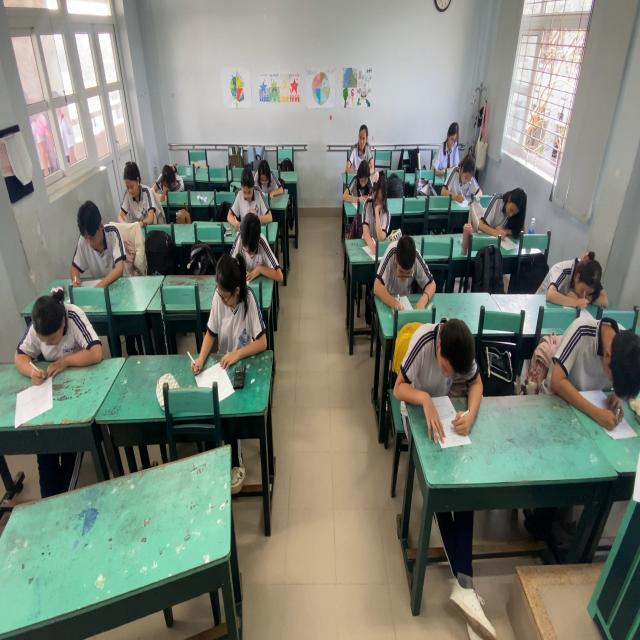not_cheating: (404, 310, 484, 449), (560, 292, 638, 432), (208, 246, 264, 371), (27, 280, 96, 380), (67, 202, 126, 300), (373, 227, 433, 323), (546, 238, 605, 317), (112, 141, 152, 242), (228, 202, 271, 276), (481, 178, 531, 241), (355, 177, 399, 248), (442, 144, 487, 210), (254, 142, 294, 214), (148, 128, 184, 202), (234, 162, 270, 221), (345, 153, 378, 216), (431, 109, 465, 167), (344, 116, 378, 173)
